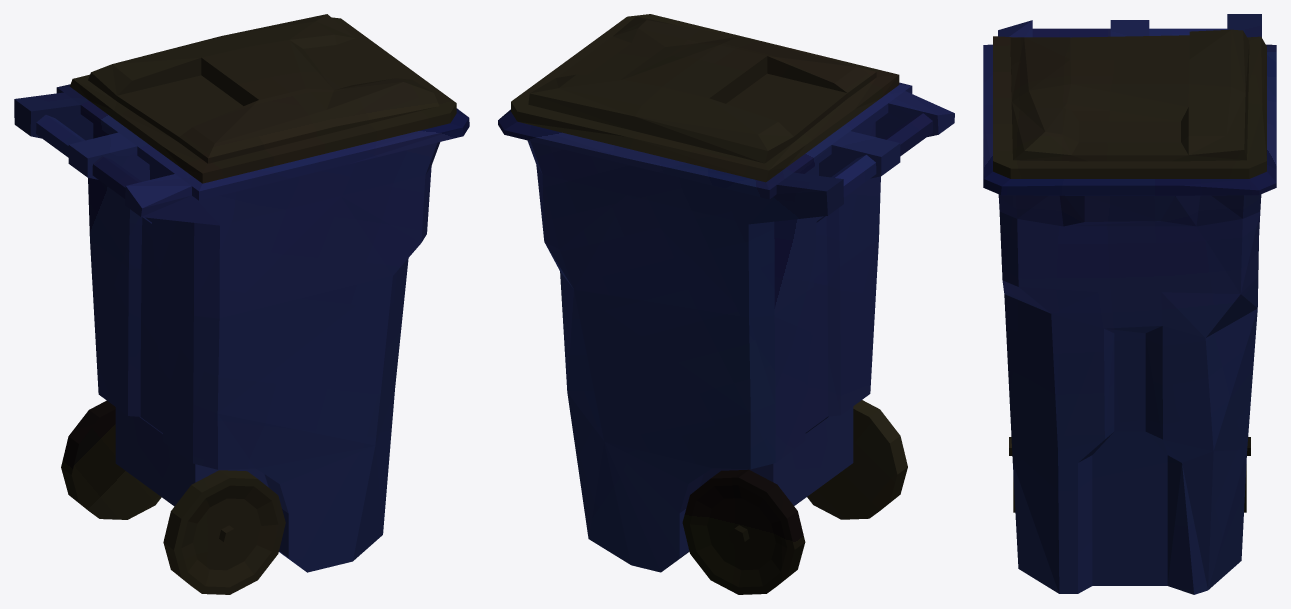
File: GarbageCan.fbx
3 renders of one model, left to right at view 1: azimuth 30°, elevation 25°; view 2: azimuth 150°, elevation 25°; view 3: azimuth 270°, elevation 25°, orthographic. The views are drawn at different scales.
Visible parts, largest first — view 1: SM_GarbageCan_01.mo; view 2: SM_GarbageCan_01.mo; view 3: SM_GarbageCan_01.mo.
Boxes of the visible parts, left/top/right/bottom form: SM_GarbageCan_01.mo: left=14, top=14, right=469, bottom=594; SM_GarbageCan_01.mo: left=498, top=14, right=954, bottom=594; SM_GarbageCan_01.mo: left=983, top=14, right=1276, bottom=594.
Size of the model in its own units: 79.21 by 106 by 59.25.
